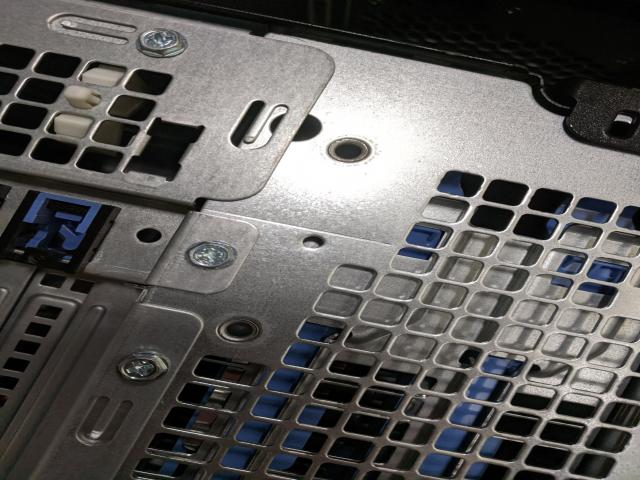CRS: (180, 240, 238, 272), (136, 27, 189, 56), (114, 354, 167, 382)
